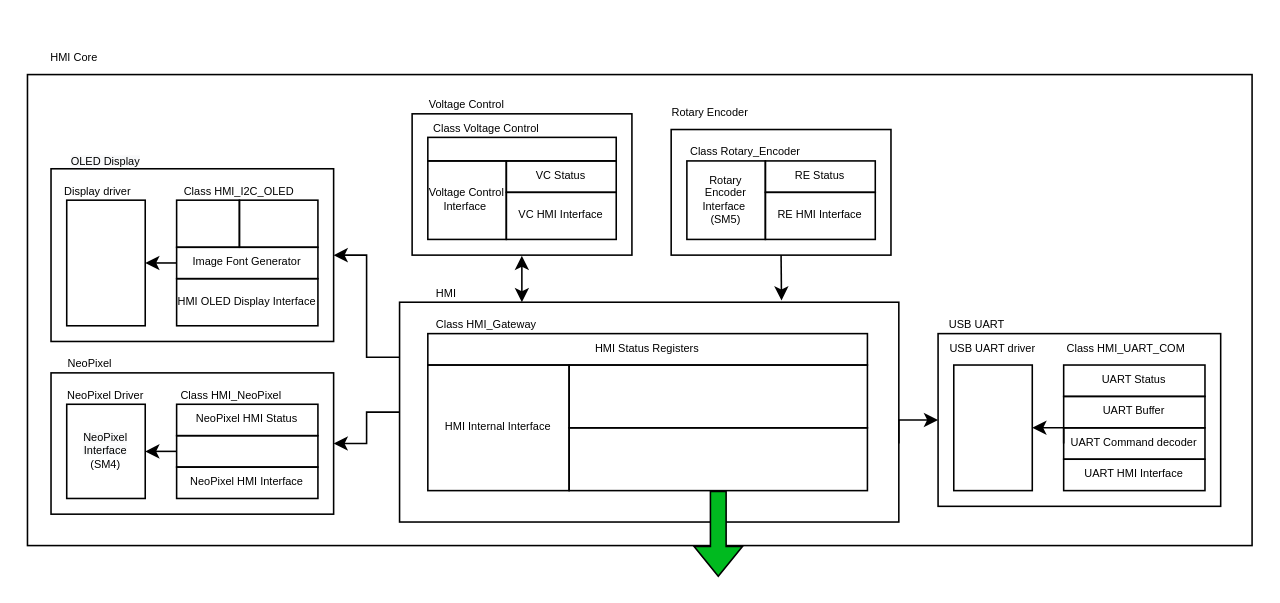
This 1280x603 diagram has some shape labels left out. The box of each missing label's shape, as (x1, y1, x2, y2) in pixels:
ADC VC Sampling: (426, 136, 616, 161)
HMI Image allocation: (175, 199, 239, 247)
HMI Image StateMachine: (238, 199, 318, 247)
HMI Intercore interface: (568, 426, 867, 491)
HMI Module Interface: (568, 363, 867, 428)
NeoPixel controller: (175, 434, 318, 467)
SSD OLED Display I2C Interface: (65, 199, 145, 326)
USB UART Interface: (952, 363, 1032, 491)
